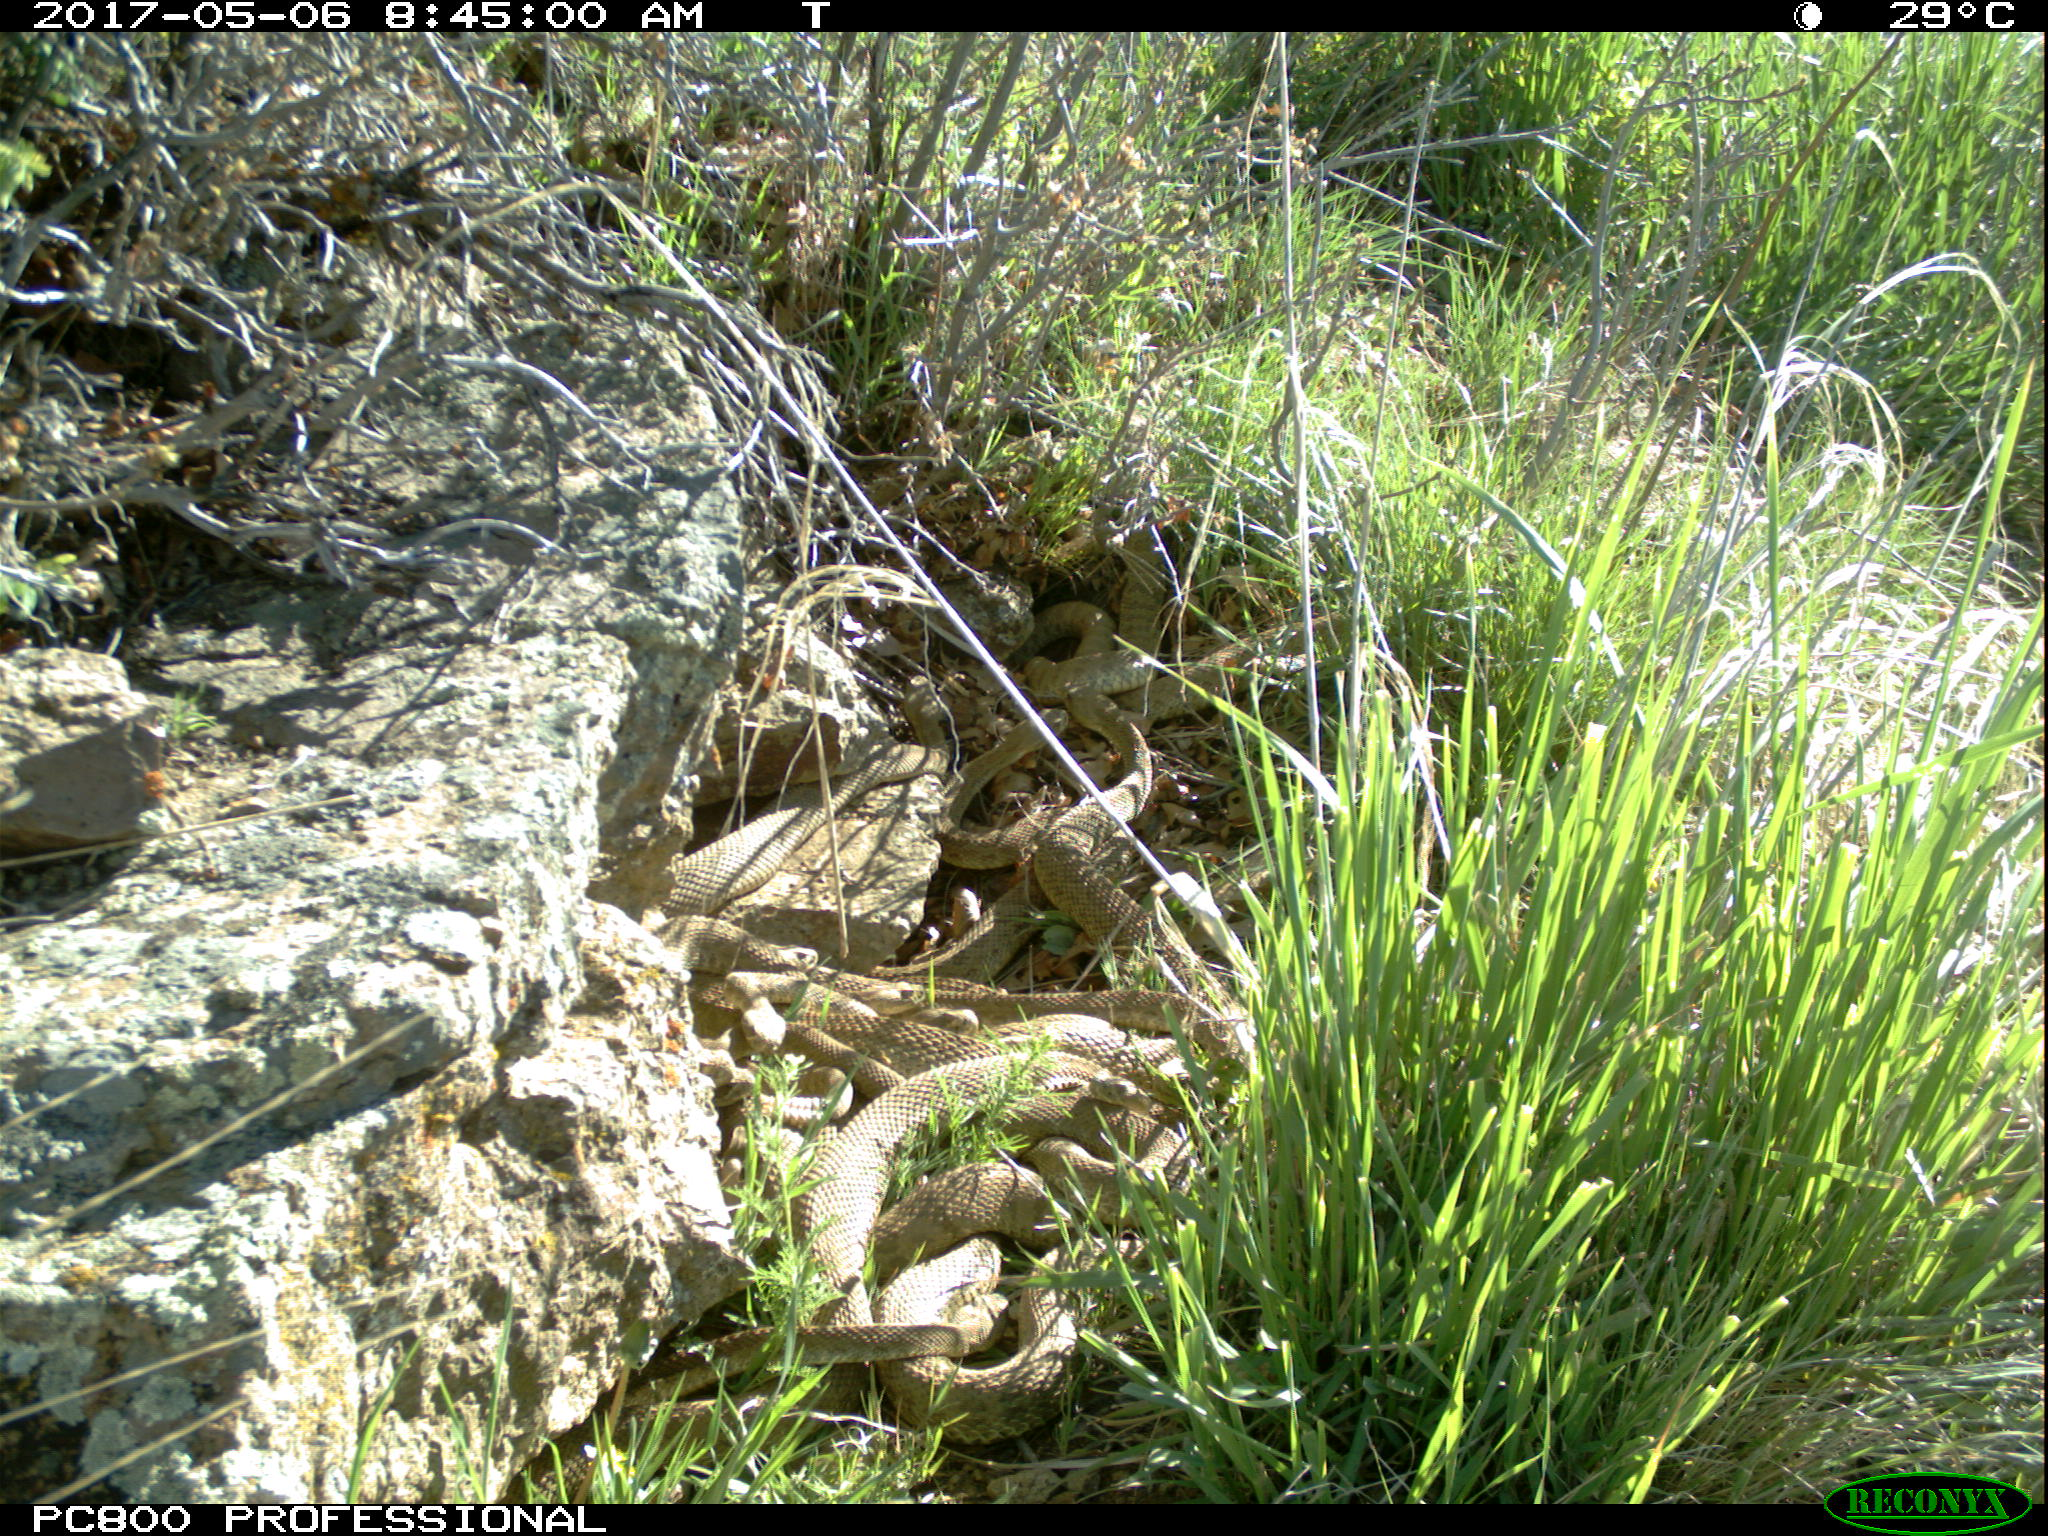snake: (798, 1042, 1198, 1325), (951, 699, 1221, 954), (664, 837, 974, 1046), (627, 1321, 1090, 1442), (1006, 594, 1376, 715), (971, 975, 1271, 1066), (818, 679, 974, 808), (1113, 557, 1177, 687)
